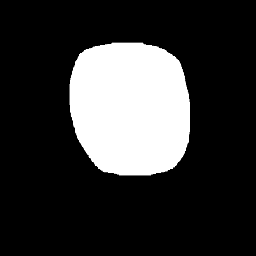mass: (73, 47, 193, 178)
